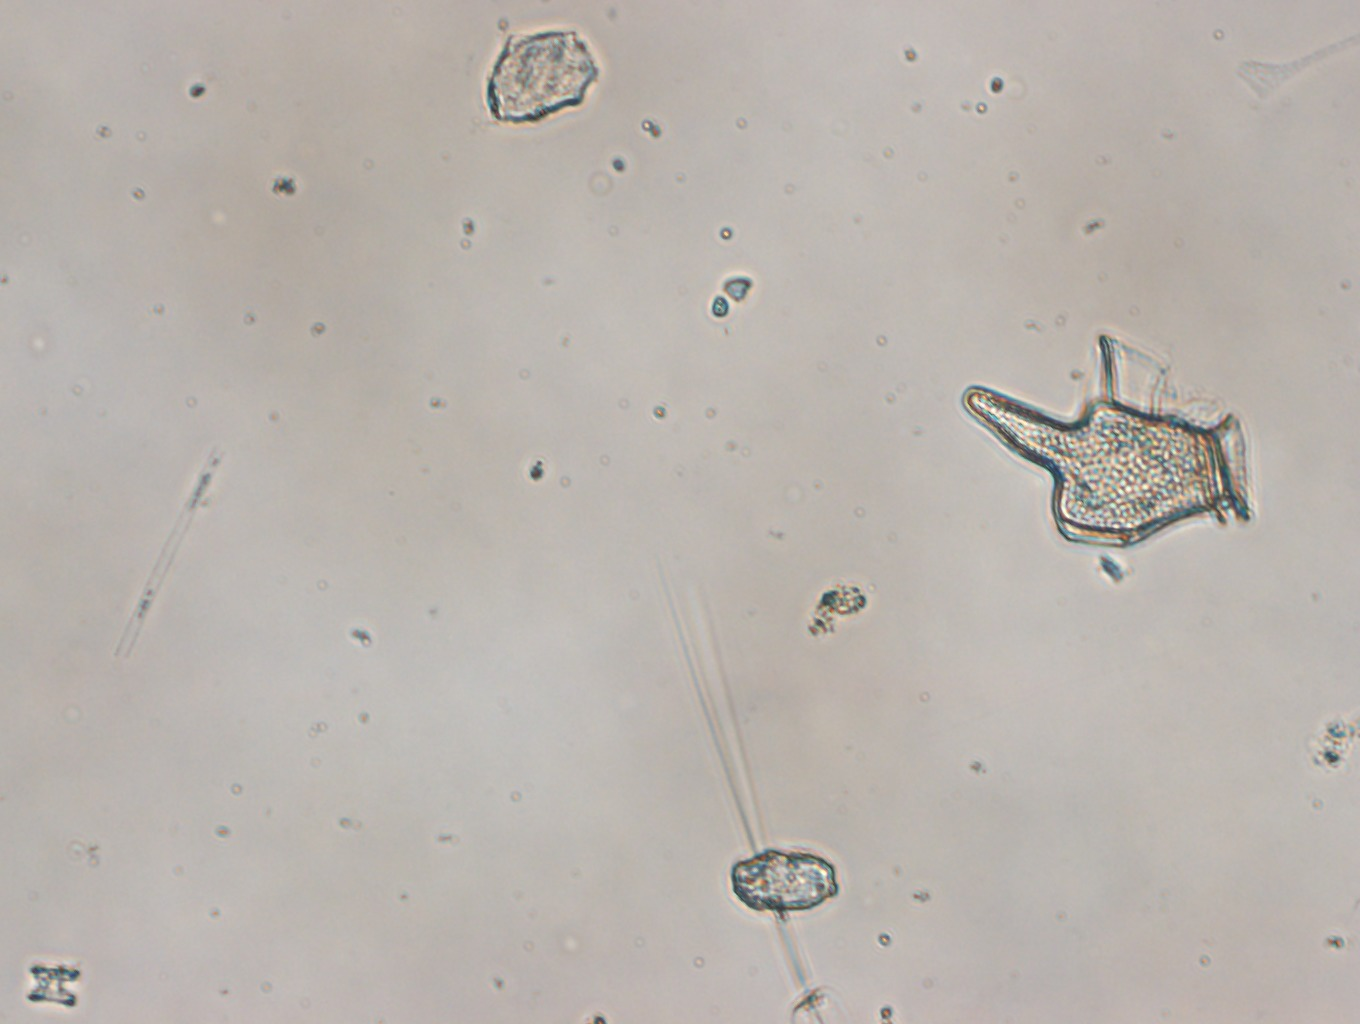dinophysis caudata: (955, 331, 1261, 546)
